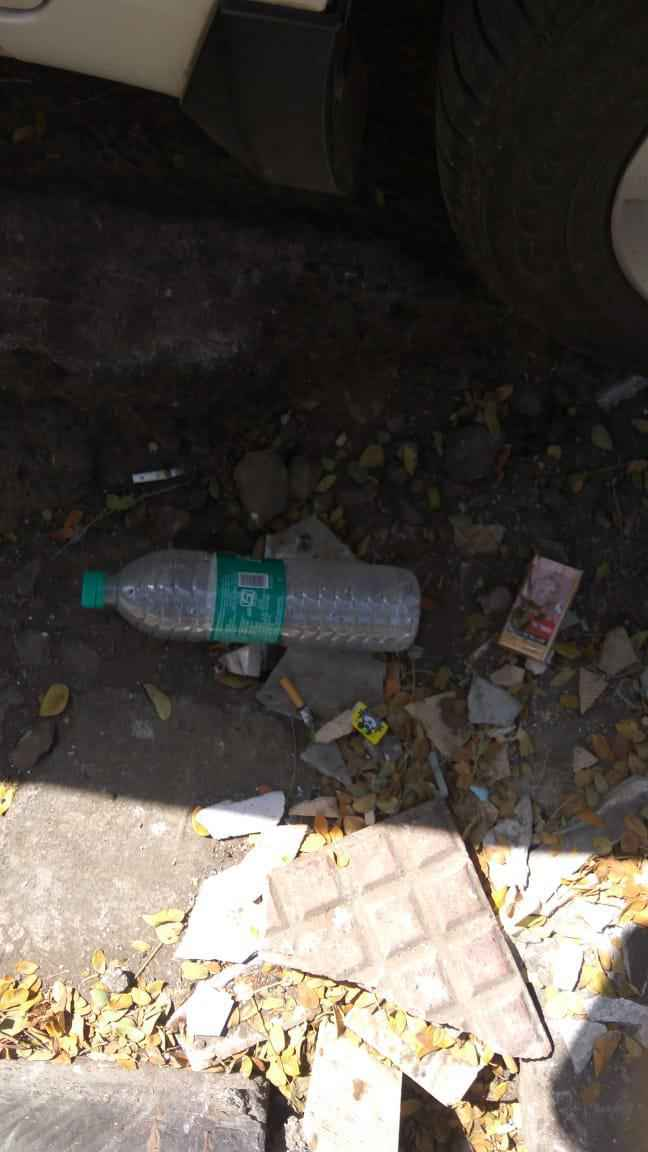Bisleri: (211, 551, 282, 644)
